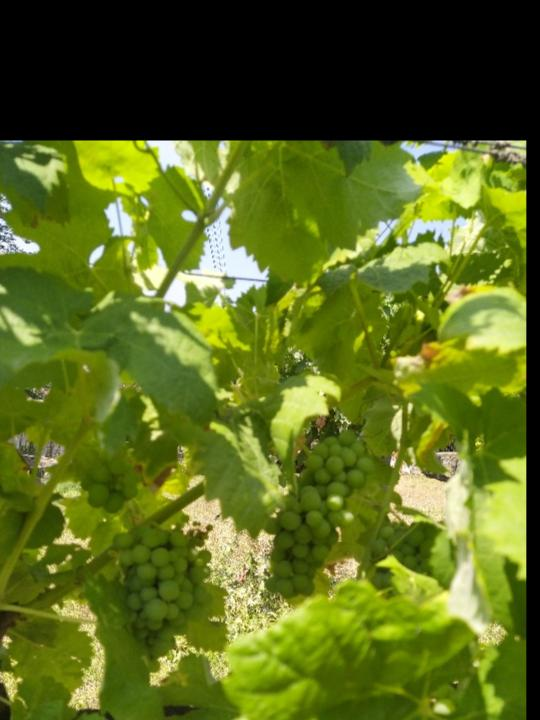grape: (262, 428, 377, 601), (109, 526, 212, 659)
